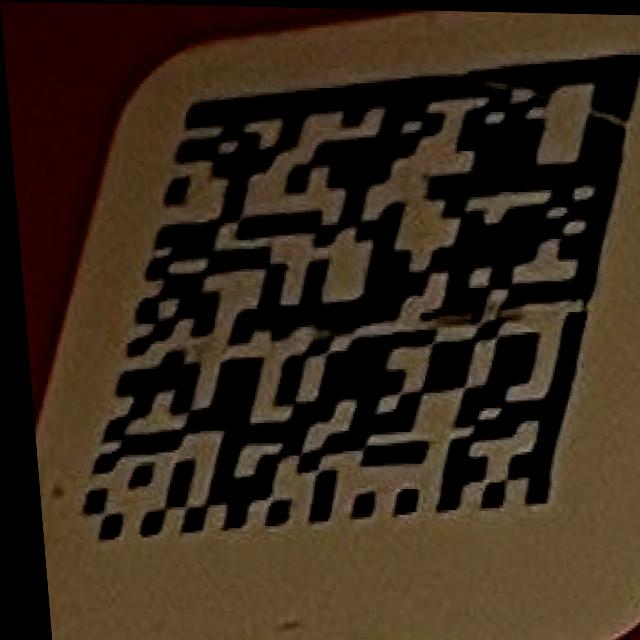QR_CODE: (38, 38, 640, 554)
